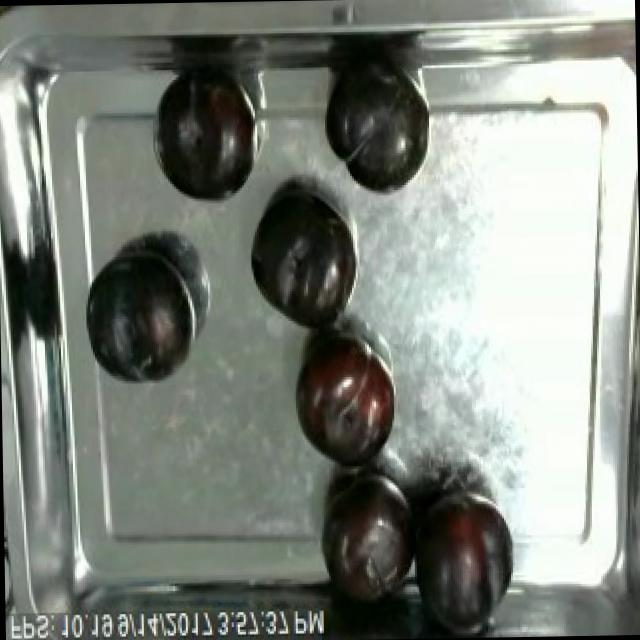Fruit: (406, 486, 524, 638), (244, 180, 356, 338), (79, 245, 197, 389), (320, 57, 434, 201), (288, 326, 398, 472), (150, 73, 264, 211), (313, 470, 421, 610)
